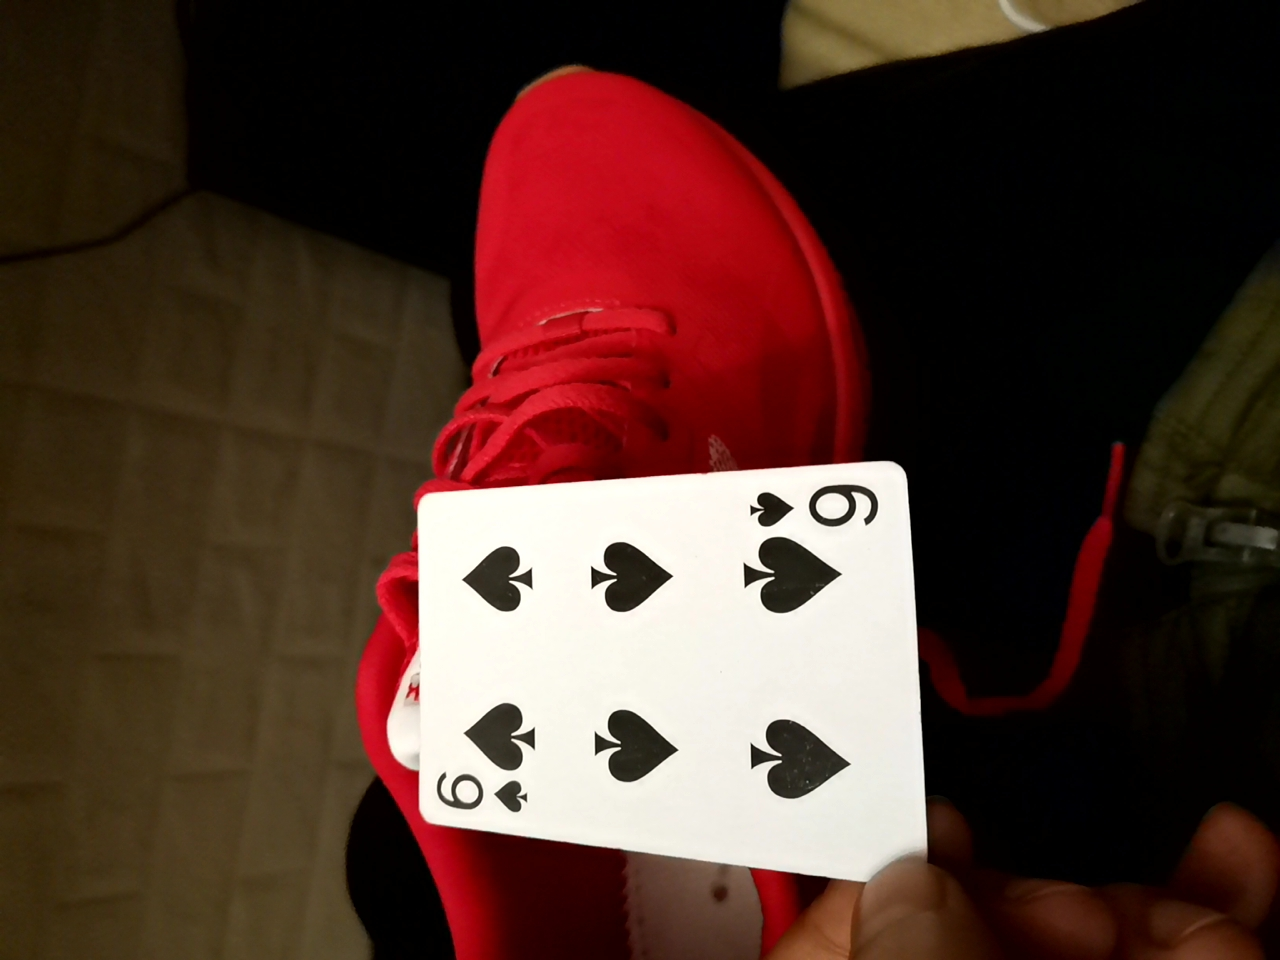ht 6: (383, 460, 950, 876)
